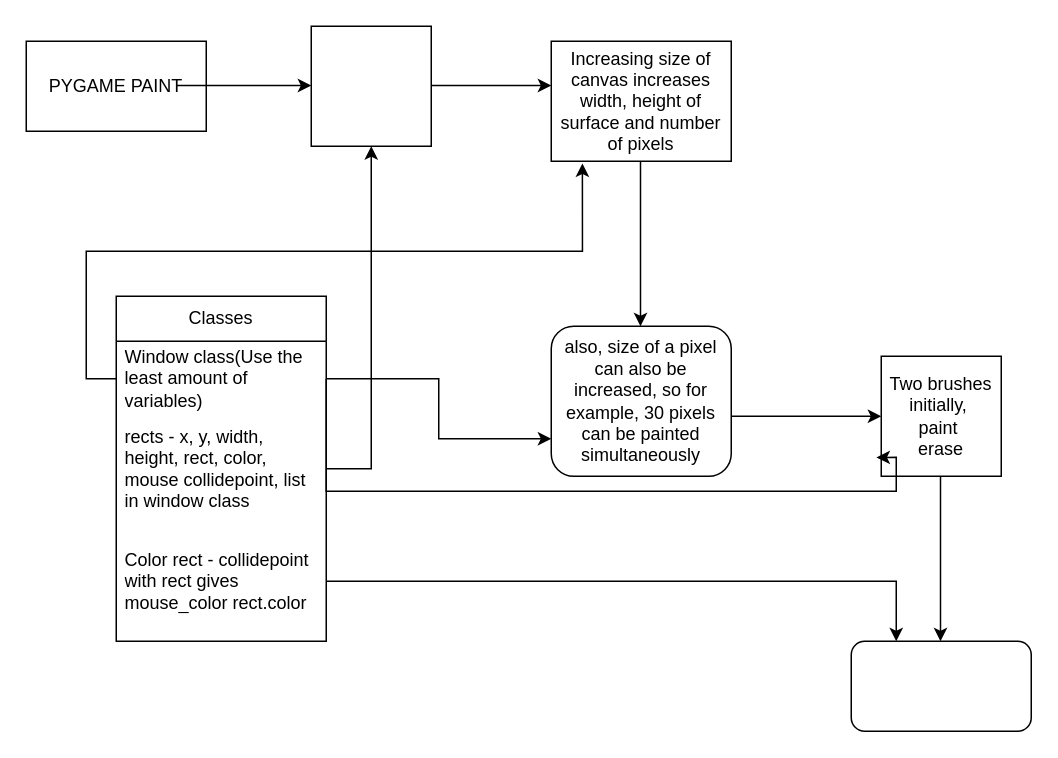
Some shapes in this 1058 by 758 pixel diagram are drawn without their labels. The shapes that lost their labels are listed below. From the top down, each one's centre as x and y in pixels, then its label:
At point 370,85: "each pixel- one width one height".
At point 940,685: "multiple color options".
